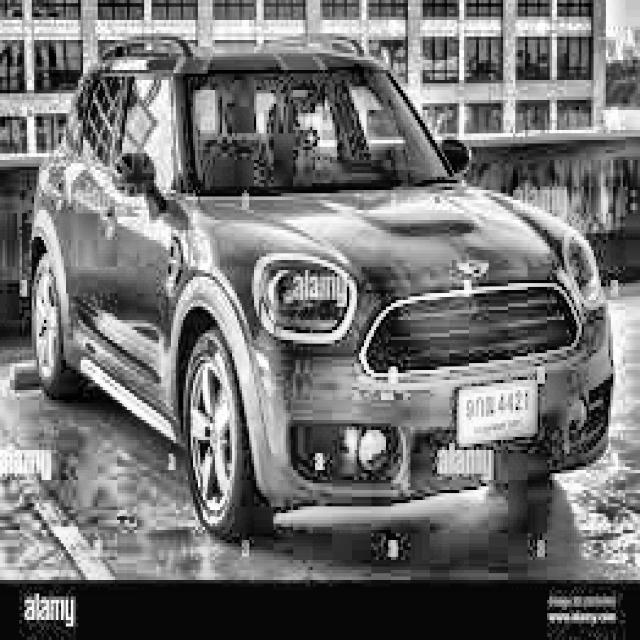license-plate: (452, 372, 546, 457)
